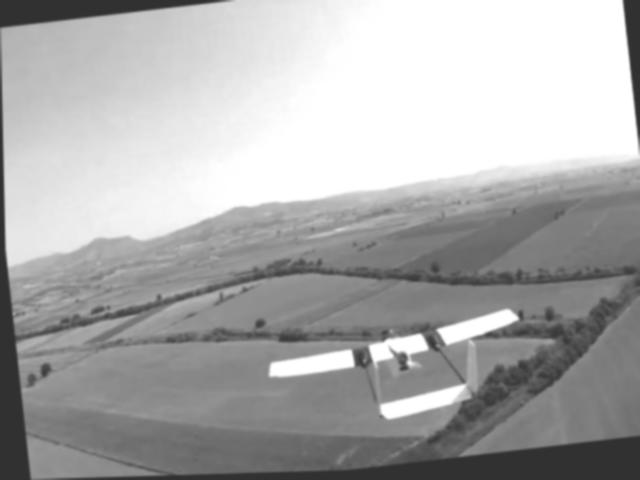hedef: (258, 299, 531, 446)
